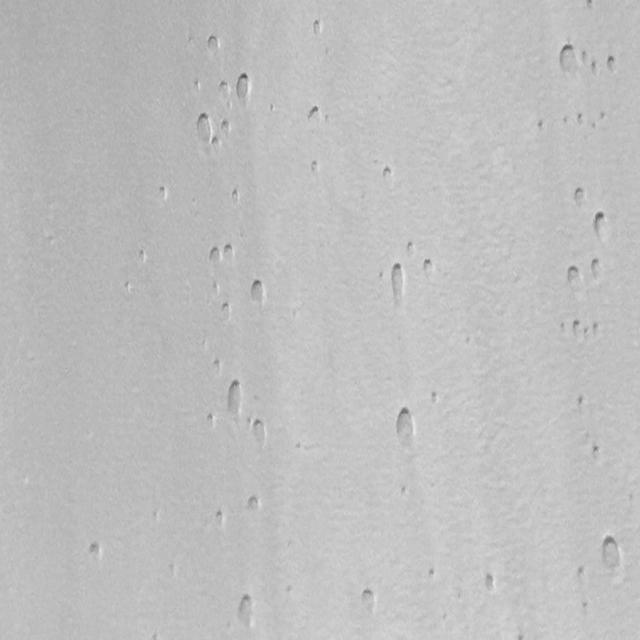pin holes: (596, 533, 625, 578), (391, 406, 419, 446), (385, 262, 410, 305), (234, 593, 259, 631), (556, 43, 582, 75), (225, 382, 246, 417), (246, 276, 268, 308), (234, 72, 254, 106), (193, 116, 214, 148), (592, 212, 614, 242), (358, 586, 378, 618), (248, 420, 268, 450), (590, 256, 608, 283), (566, 264, 585, 289), (569, 184, 588, 208), (481, 571, 499, 596), (86, 539, 104, 564), (244, 491, 262, 515), (572, 566, 590, 589), (304, 107, 323, 128), (206, 242, 222, 266), (218, 79, 234, 102), (219, 300, 235, 322), (421, 257, 436, 280), (576, 394, 592, 415), (214, 509, 230, 530), (203, 410, 219, 430), (572, 319, 586, 341), (380, 165, 396, 184), (220, 119, 236, 138), (310, 18, 325, 38), (580, 49, 595, 69), (157, 184, 172, 203), (206, 35, 220, 55), (607, 54, 621, 74), (590, 443, 604, 463), (404, 238, 418, 258), (224, 242, 237, 262), (308, 159, 322, 177), (136, 247, 149, 266), (428, 567, 442, 584), (212, 359, 225, 377), (230, 187, 242, 206), (285, 582, 299, 598), (590, 321, 602, 339), (430, 392, 443, 408), (537, 120, 549, 136), (580, 600, 592, 616), (557, 320, 569, 336), (194, 77, 204, 95), (399, 484, 411, 499), (589, 60, 600, 76), (576, 112, 588, 126), (583, 0, 597, 12), (598, 108, 608, 122), (563, 117, 571, 126)
